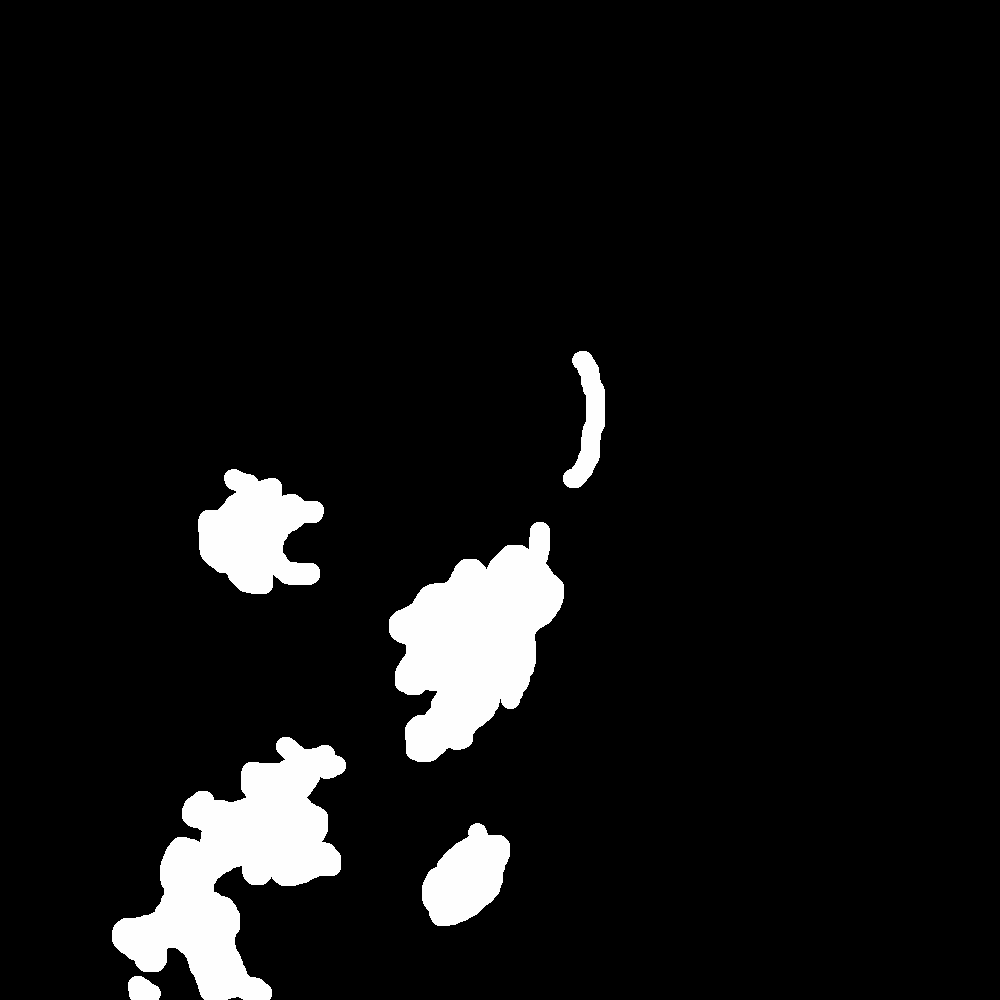illegal: (117, 742, 347, 1000), (391, 502, 564, 762), (198, 473, 320, 593), (418, 831, 518, 927), (564, 339, 608, 485)
